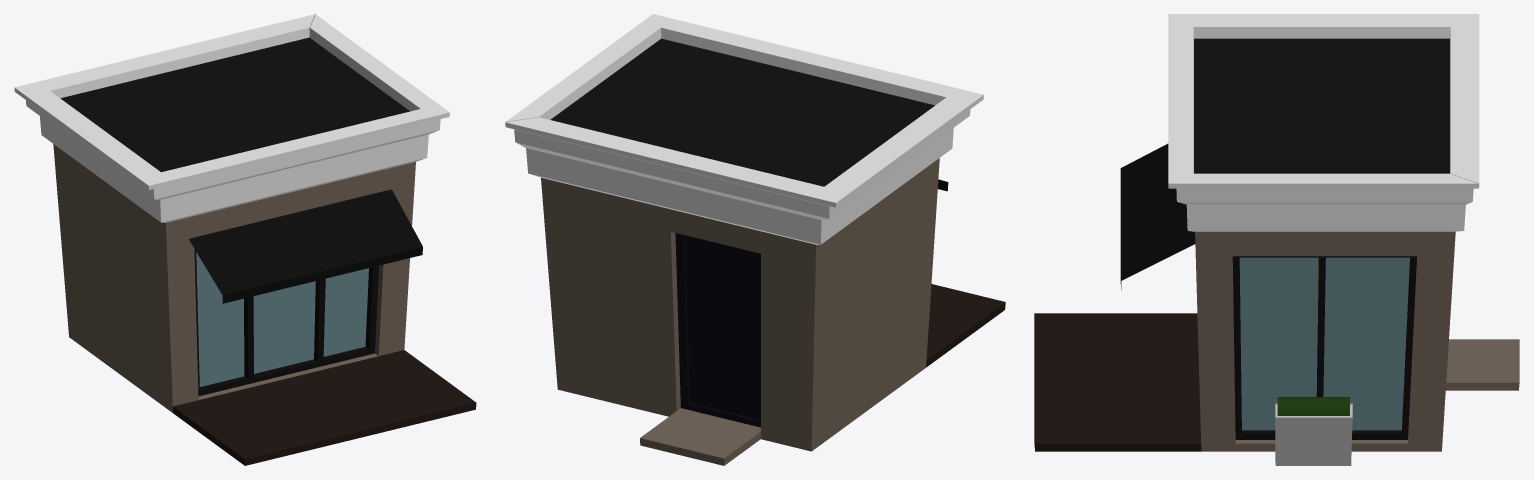
The model's file is BuildingResident1.fbx.
3 views of the same model, side by side, from view 1: azimuth 30°, elevation 25°; view 2: azimuth 150°, elevation 25°; view 3: azimuth 270°, elevation 25° (orthographic). The views are drawn at different scales.
Visible parts, largest first — view 1: BuildingResident1; view 2: BuildingResident1; view 3: BuildingResident1.
Part boxes in pixels (box(x1,y1,x2,y2)): BuildingResident1: box(14, 14, 476, 465); BuildingResident1: box(505, 14, 1005, 465); BuildingResident1: box(1034, 14, 1519, 465).
Size of the model in its own units: 10.08 by 7.83 by 12.04.
